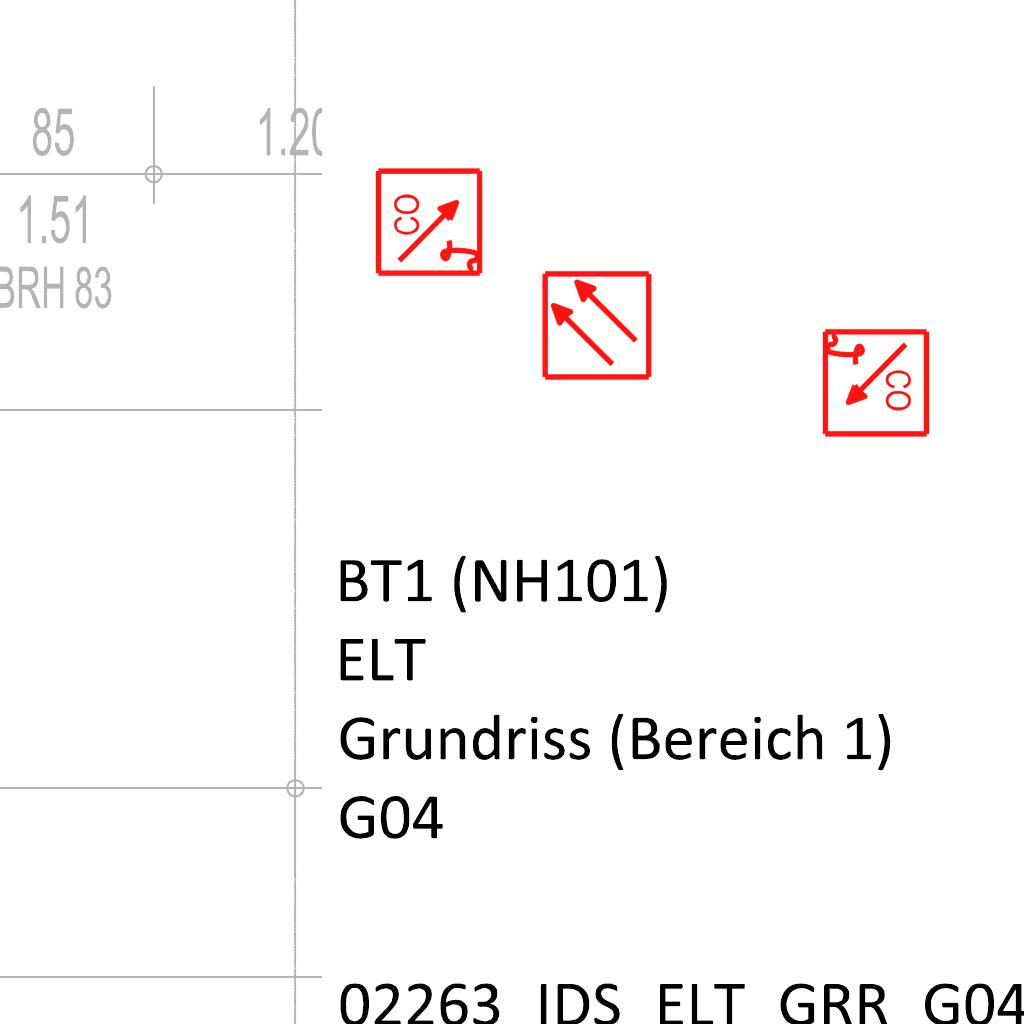RMO_Rauchmelder_optischer: (540, 269, 653, 382)
ROA_Rauchmelder_optisch_mit_Signalgeber_(Sockelsirene): (374, 165, 487, 278), (818, 327, 931, 440)
